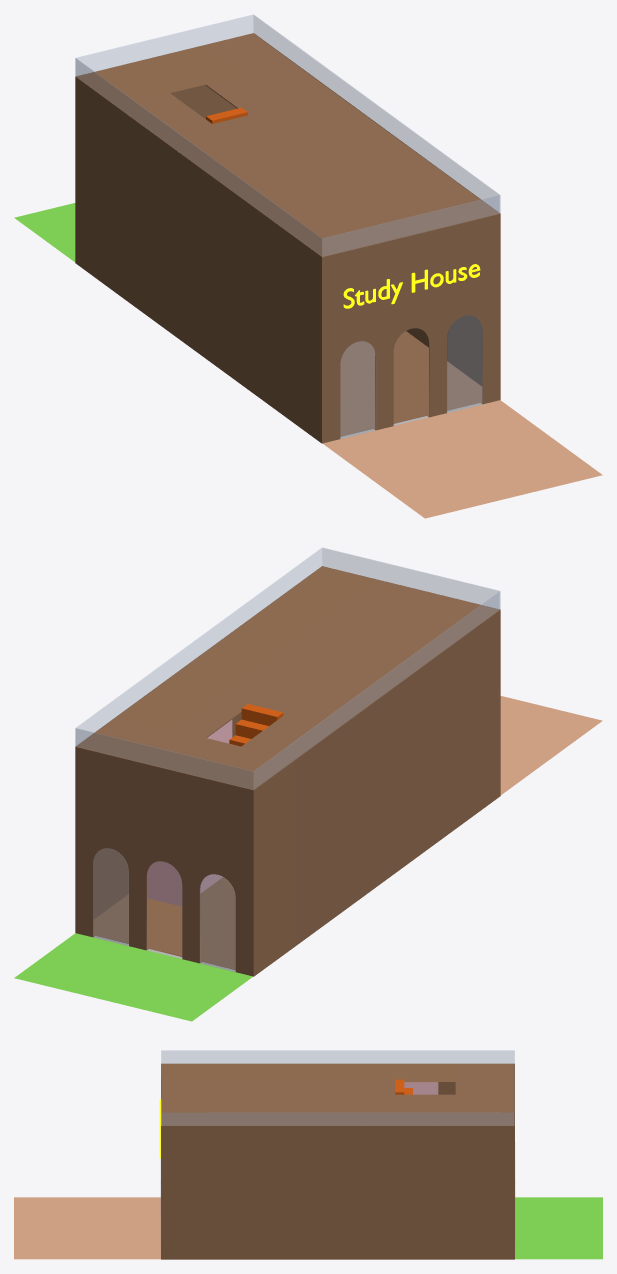
Rendered from Park II.glb.
3 views of the same model, one above another, from view 1: azimuth 30°, elevation 25°; view 2: azimuth 150°, elevation 25°; view 3: azimuth 270°, elevation 25° (orthographic). The views are drawn at different scales.
Visible parts, largest first — view 1: Cube, Plane, Glass.001, Glass, Text; view 2: Cube, Plane, Glass.002, Glass.003, Cube.002; view 3: Cube, Plane.
Boxes of the visible parts, x1,y1,x2,y2 form: Cube: (75,14,500,443); Plane: (14,203,602,518); Glass.001: (340,341,375,438); Glass: (447,315,482,412); Text: (343,264,480,308); Cube: (75,547,500,976); Plane: (14,696,602,1021); Glass.002: (93,848,128,945); Glass.003: (200,874,235,971); Cube.002: (229,704,283,746); Cube: (161,1050,514,1259); Plane: (14,1197,602,1259).
Bounding box in the file's own units: 5.02 × 5.51 × 20.
